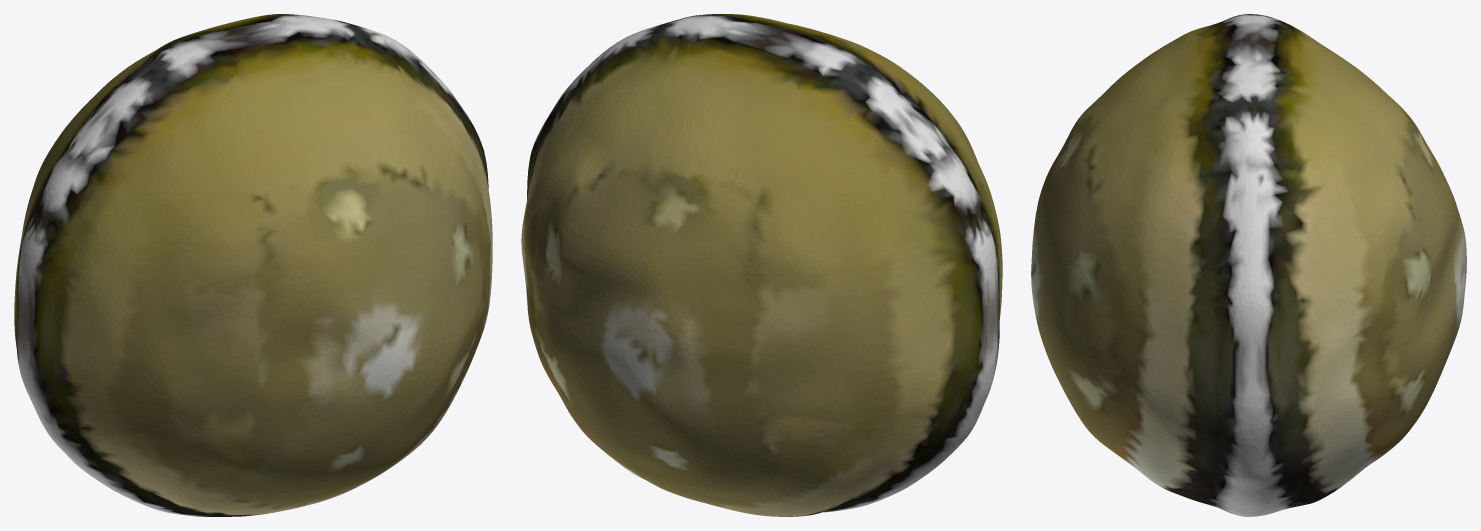
Rendered from b_small_shie.glb.
3 renders of one model, left to right at view 1: azimuth 30°, elevation 25°; view 2: azimuth 150°, elevation 25°; view 3: azimuth 270°, elevation 25°, orthographic. The views are drawn at different scales.
Visible parts, largest first — view 1: geometry_0; view 2: geometry_0; view 3: geometry_0.
Boxes of the visible parts, left/top/right/bottom form: geometry_0: left=14, top=14, right=492, bottom=516; geometry_0: left=521, top=14, right=1002, bottom=516; geometry_0: left=1031, top=14, right=1466, bottom=516.
Size of the model in its own units: 0.5938 by 0.5732 by 0.5152.
